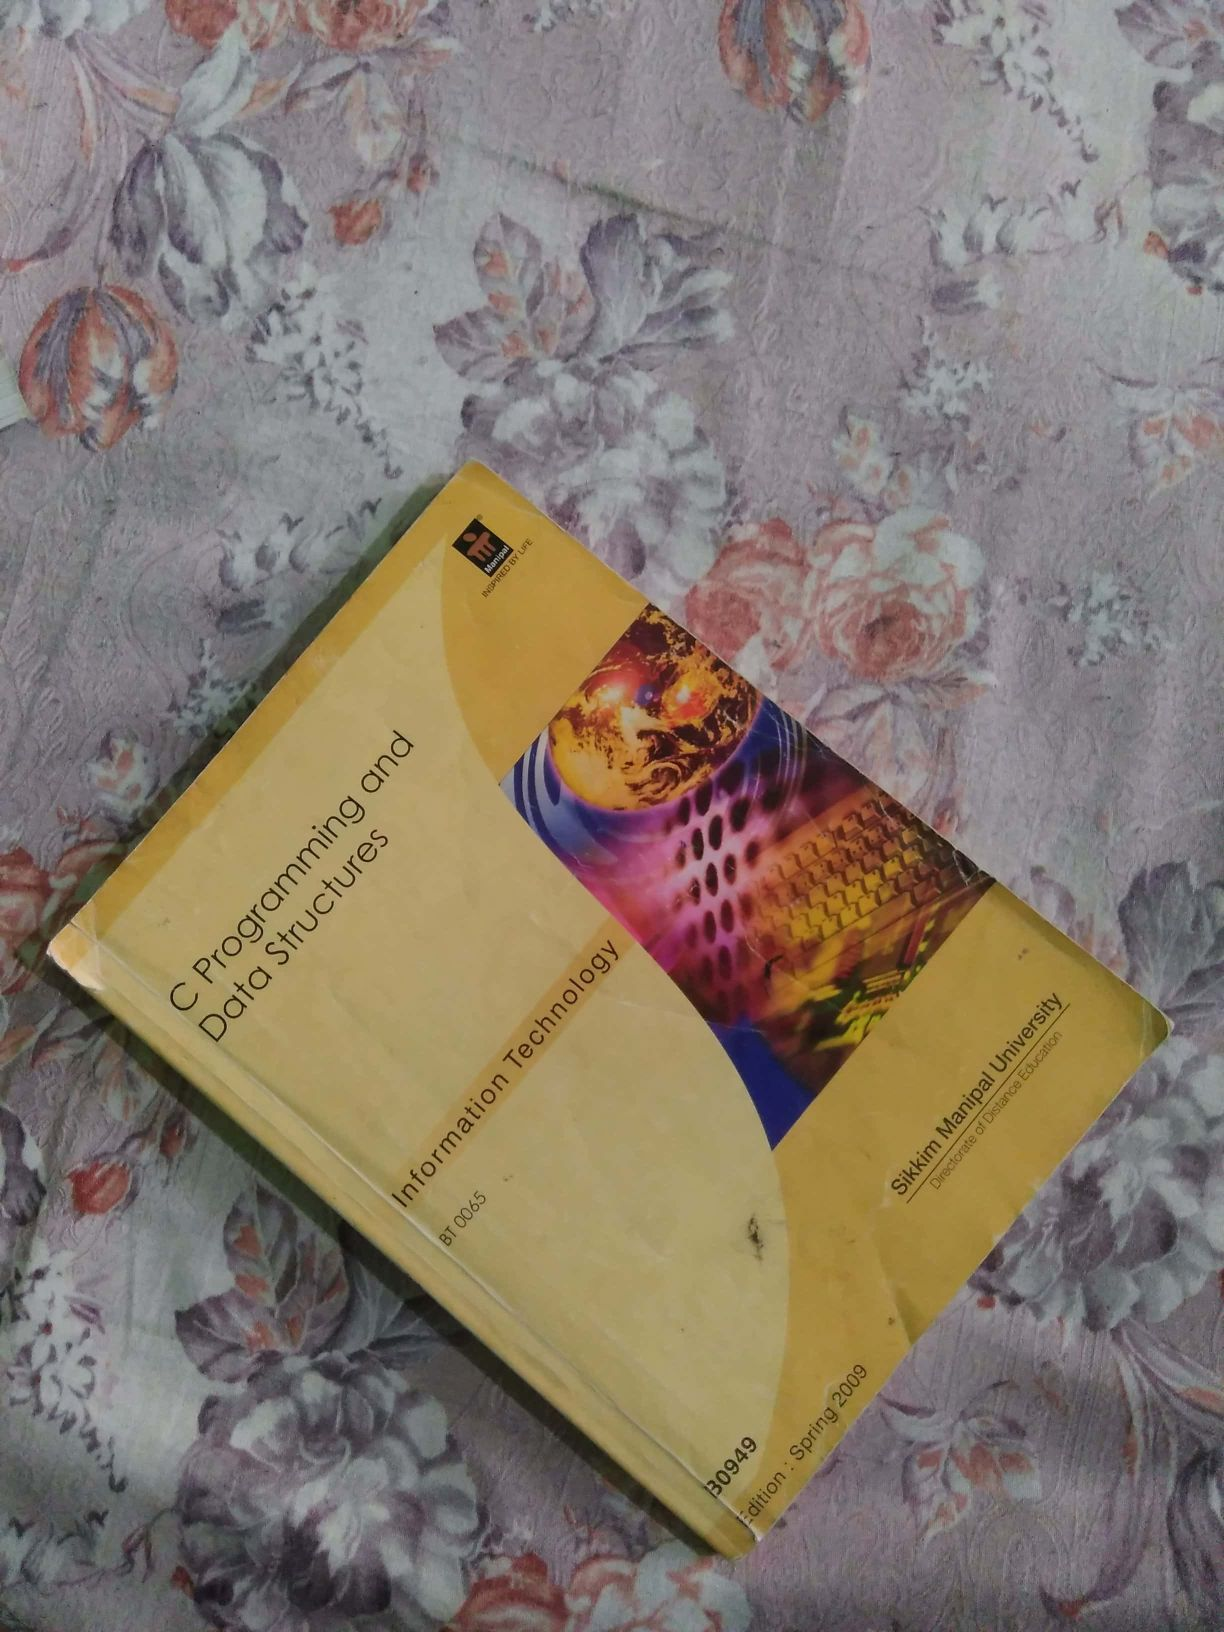clang: (31, 493, 1161, 1524)
